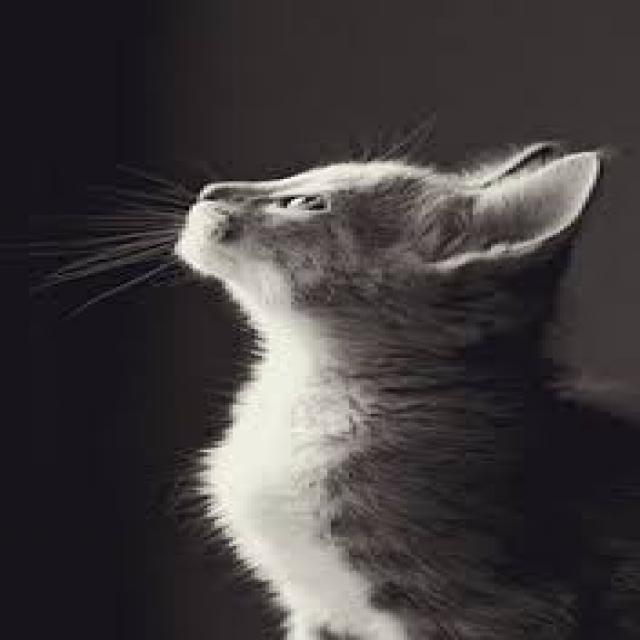Cat: (137, 134, 640, 640)
